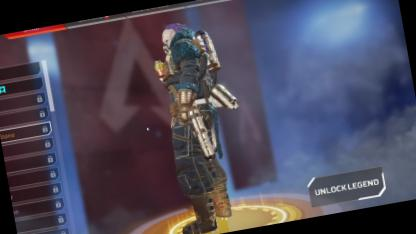Target: (149, 14, 241, 186)
